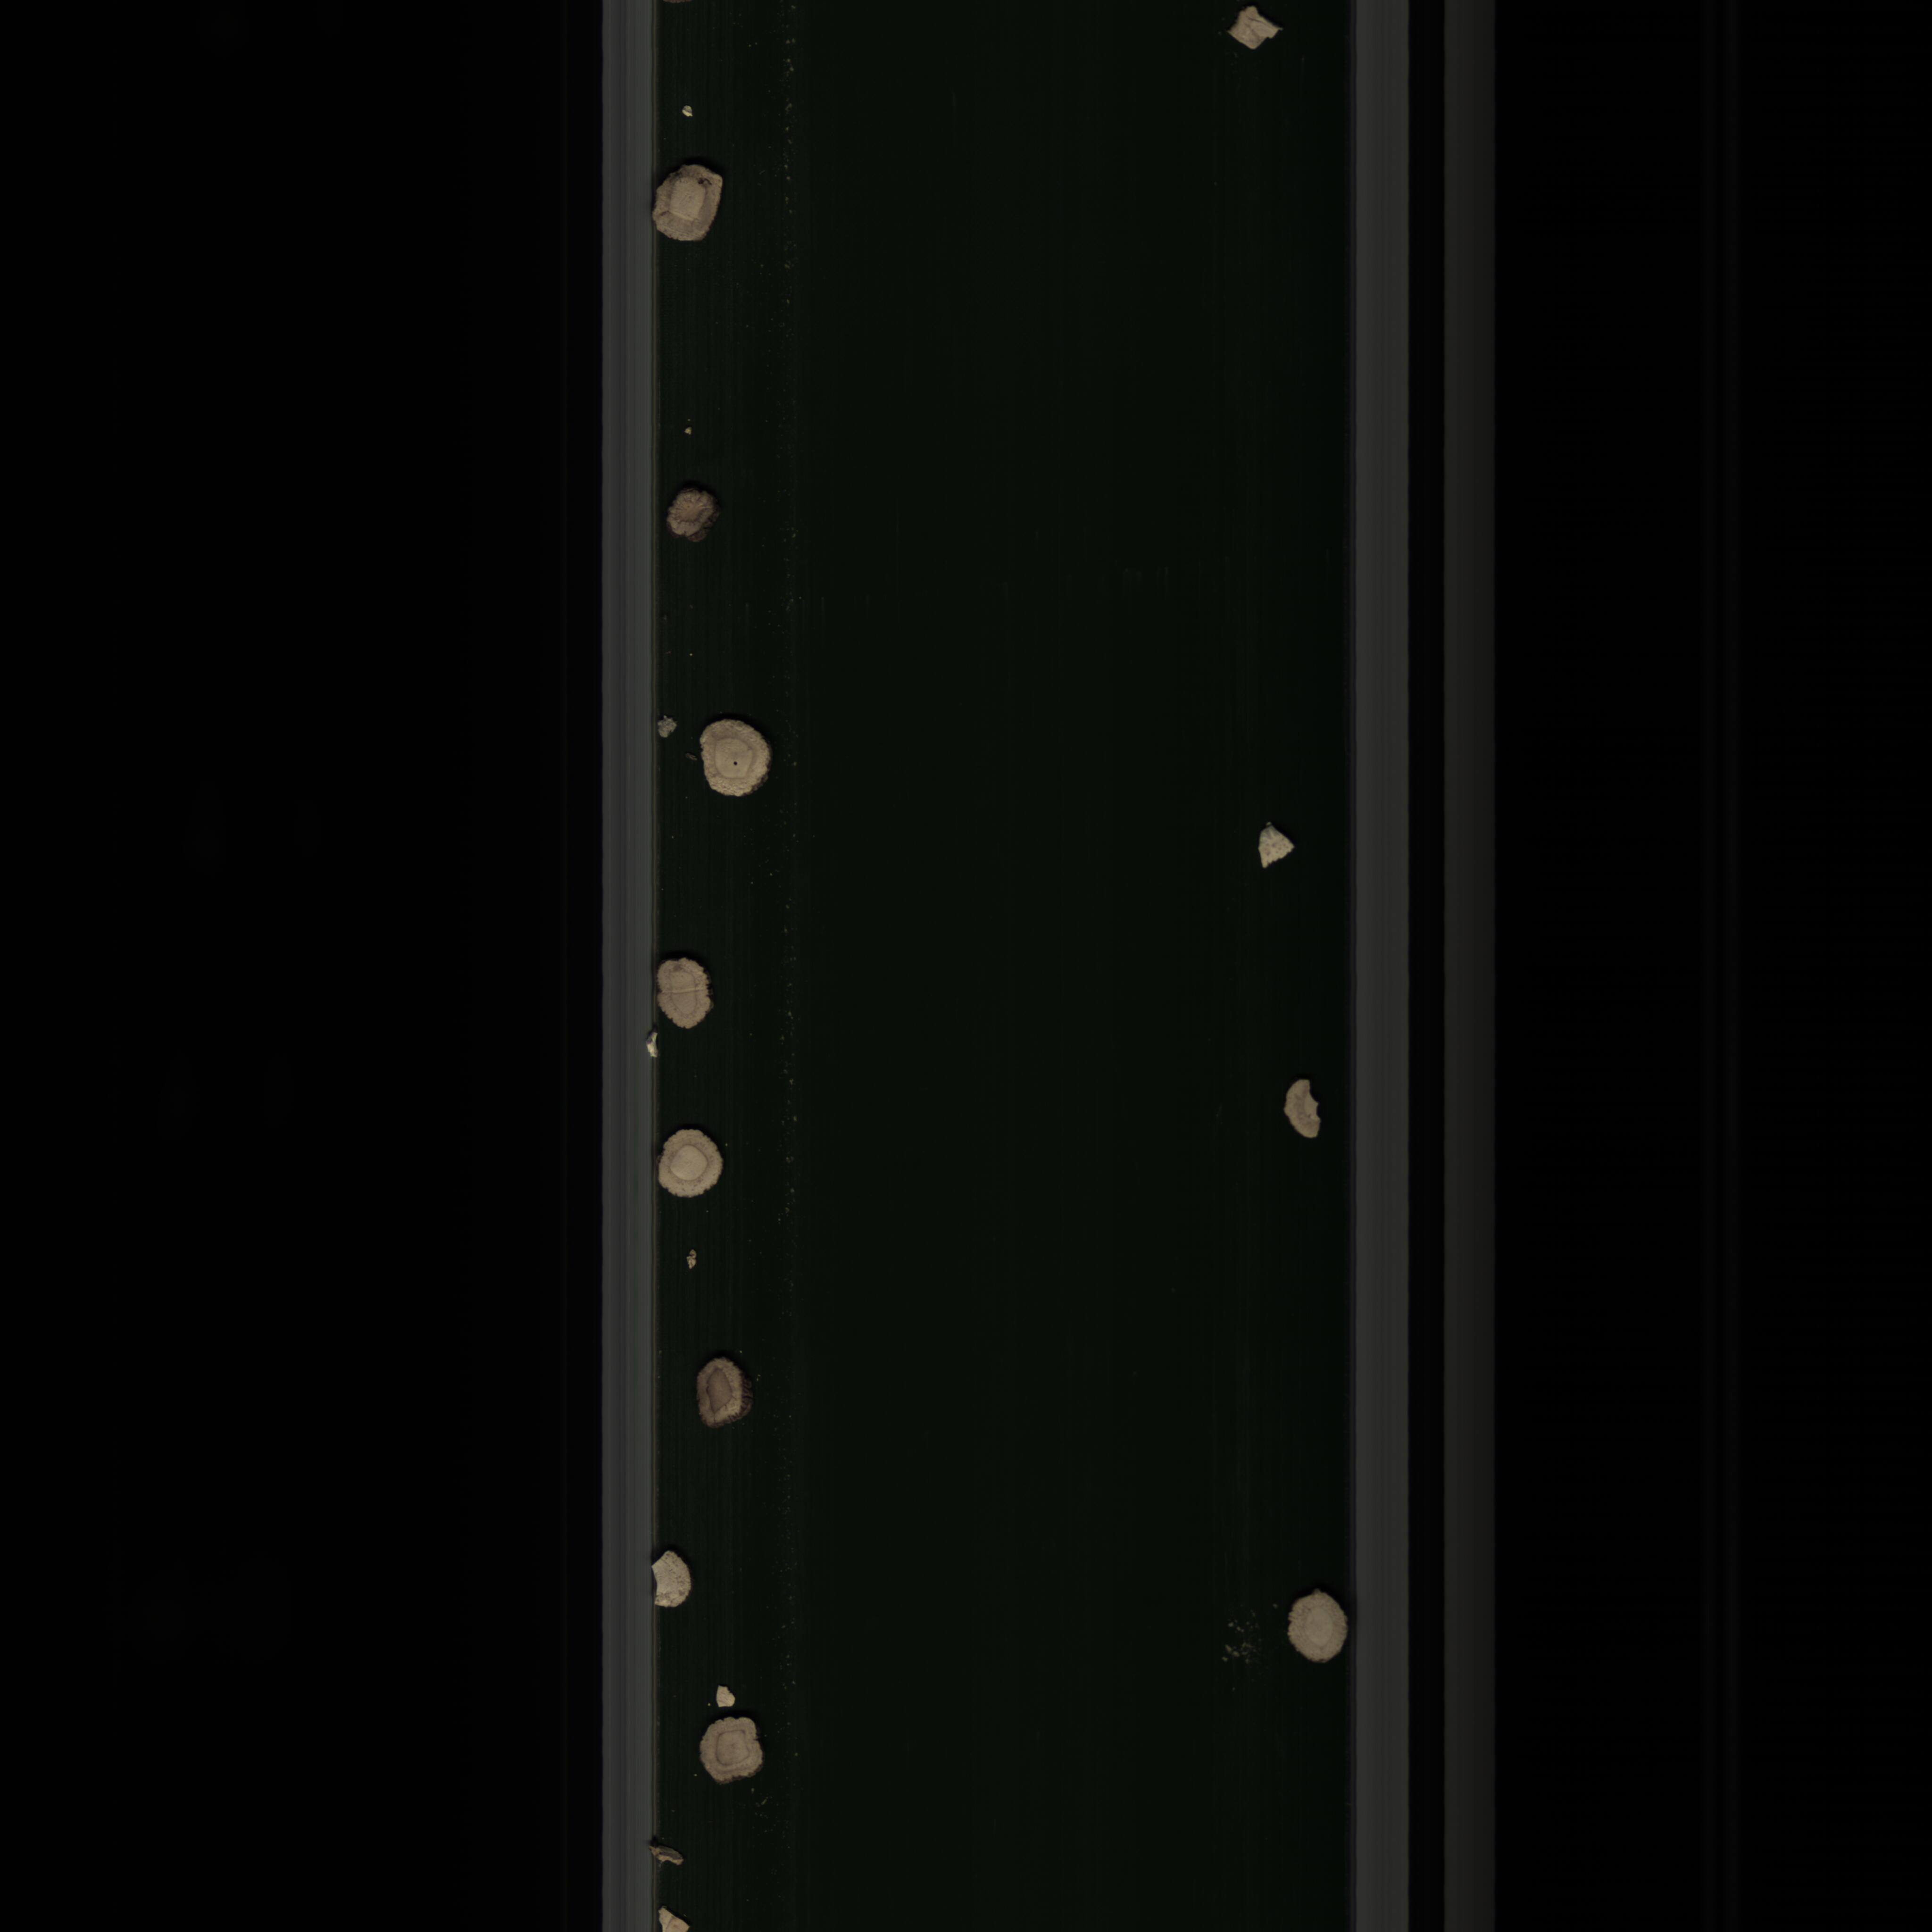bark: (662, 485, 720, 541), (648, 1835, 697, 1874)
debris: (1276, 1072, 1330, 1148), (649, 1546, 697, 1617), (1247, 814, 1300, 876), (1226, 11, 1290, 55), (709, 1675, 743, 1711)
moldy: (690, 1355, 757, 1431)
